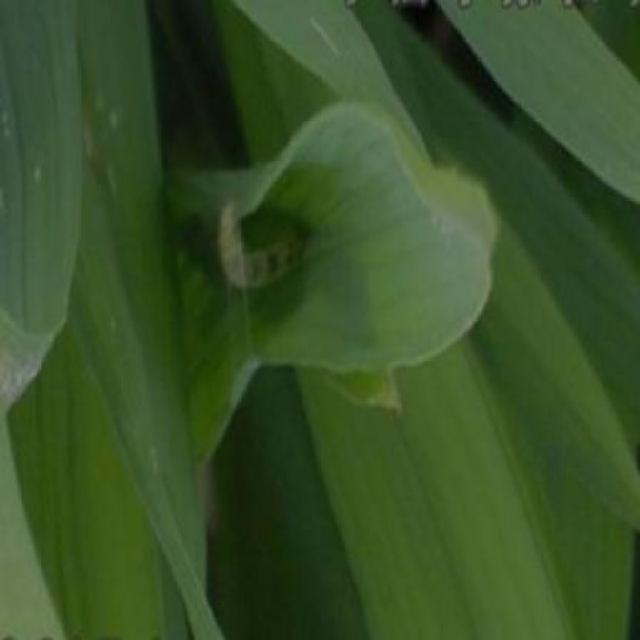leaf-folder: (207, 191, 350, 303)
